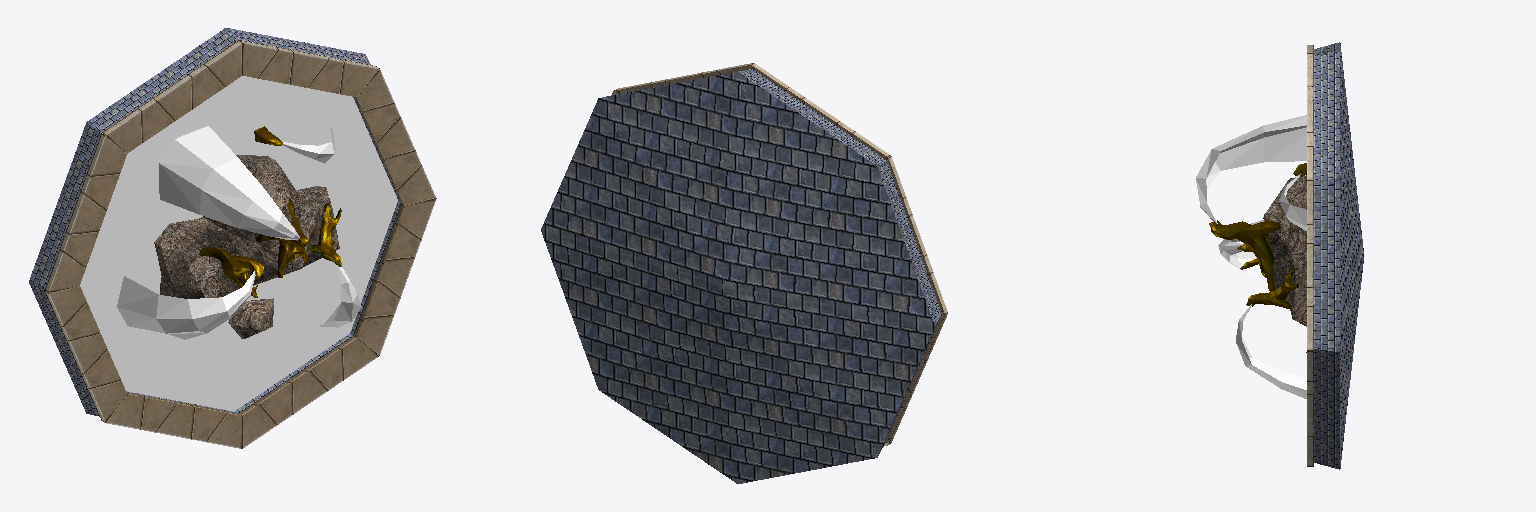
3 views of the same model, side by side, from view 1: azimuth 30°, elevation 25°; view 2: azimuth 150°, elevation 25°; view 3: azimuth 270°, elevation 25° (orthographic).
Visible parts, largest first — view 1: Editable Mesh, Inner Rim, RockCoastal, Upper Walls, Bronzeseals; view 2: Upper Walls, Inner Rim; view 3: Upper Walls, Editable Mesh, RockCoastal, Inner Rim, Bronzeseals.
Part boxes in pixels (x1,y1,x2,y2): Editable Mesh: (80,76,397,411); Inner Rim: (45,40,436,448); RockCoastal: (154,155,339,338); Upper Walls: (29,28,400,416); Bronzeseals: (199,126,341,297); Upper Walls: (541,69,941,483); Inner Rim: (612,63,947,446); Upper Walls: (1314,42,1363,469); Editable Mesh: (1196,115,1306,398); RockCoastal: (1263,176,1306,352); Inner Rim: (1307,45,1313,466); Bronzeseals: (1209,163,1306,309).
Size of the model in its own units: 8.69 by 8.69 by 3.22.
Materials: 11 (6 with a texture image).